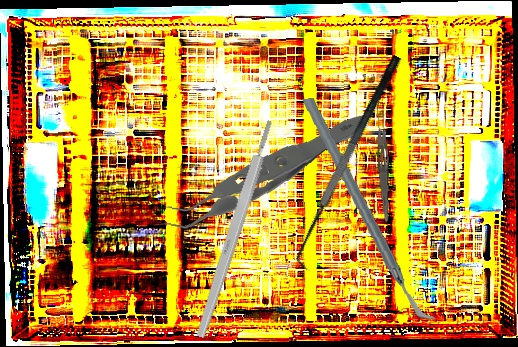Chopper: (301, 90, 438, 328)
Dressing Forceps: (373, 105, 395, 223)
Scalpel Handle: (193, 118, 278, 340)
Spatula Surgical: (284, 53, 419, 273)
Tissue Forceps: (149, 103, 368, 239)
